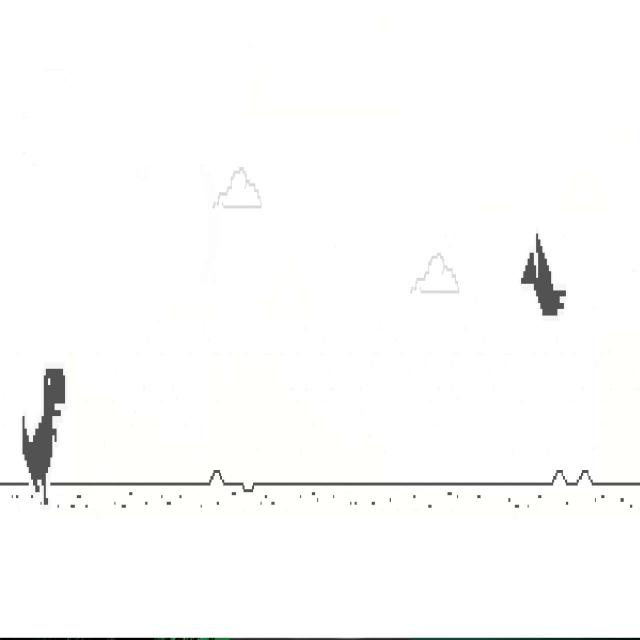dino: (22, 368, 65, 506)
ptero: (521, 232, 566, 317)
